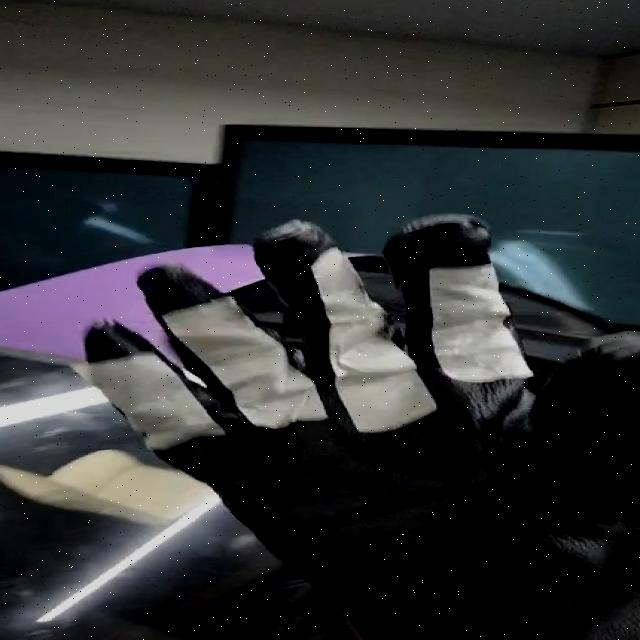Gloves: (89, 214, 640, 640)
